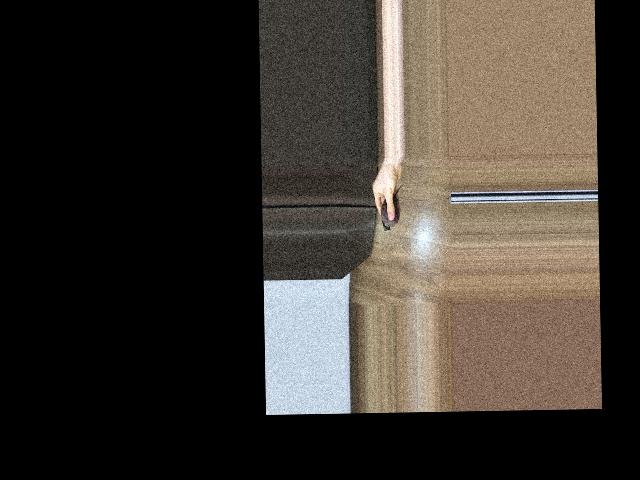beet: (380, 185, 406, 231)
